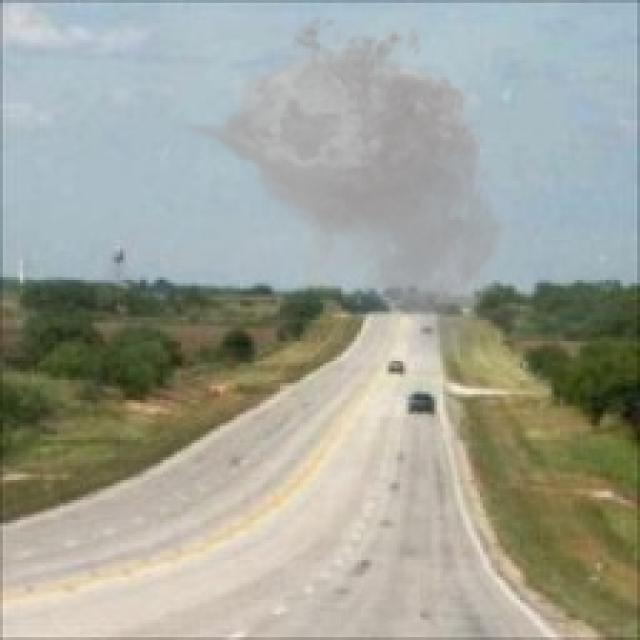smoke: (171, 3, 523, 366)
